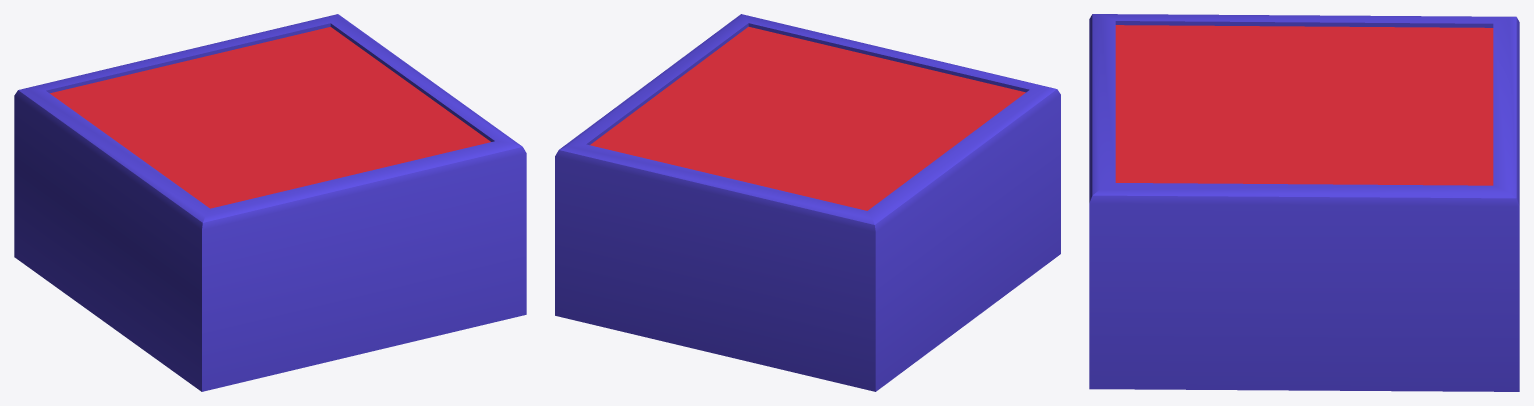
Rendered from Plateforme_1x1.fbx.
The picture shows the model from 3 angles, left to right: view 1: azimuth 30°, elevation 25°; view 2: azimuth 150°, elevation 25°; view 3: azimuth 270°, elevation 25°; orthographic projection. The views are drawn at different scales.
Visible parts, largest first — view 1: 1x1; view 2: 1x1; view 3: 1x1.
Boxes of the visible parts, x1,y1,x2,y2 form: 1x1: (14, 14, 526, 391); 1x1: (555, 14, 1060, 391); 1x1: (1089, 14, 1519, 391).
Size of the model in its own units: 99.99 by 51.31 by 99.99.
